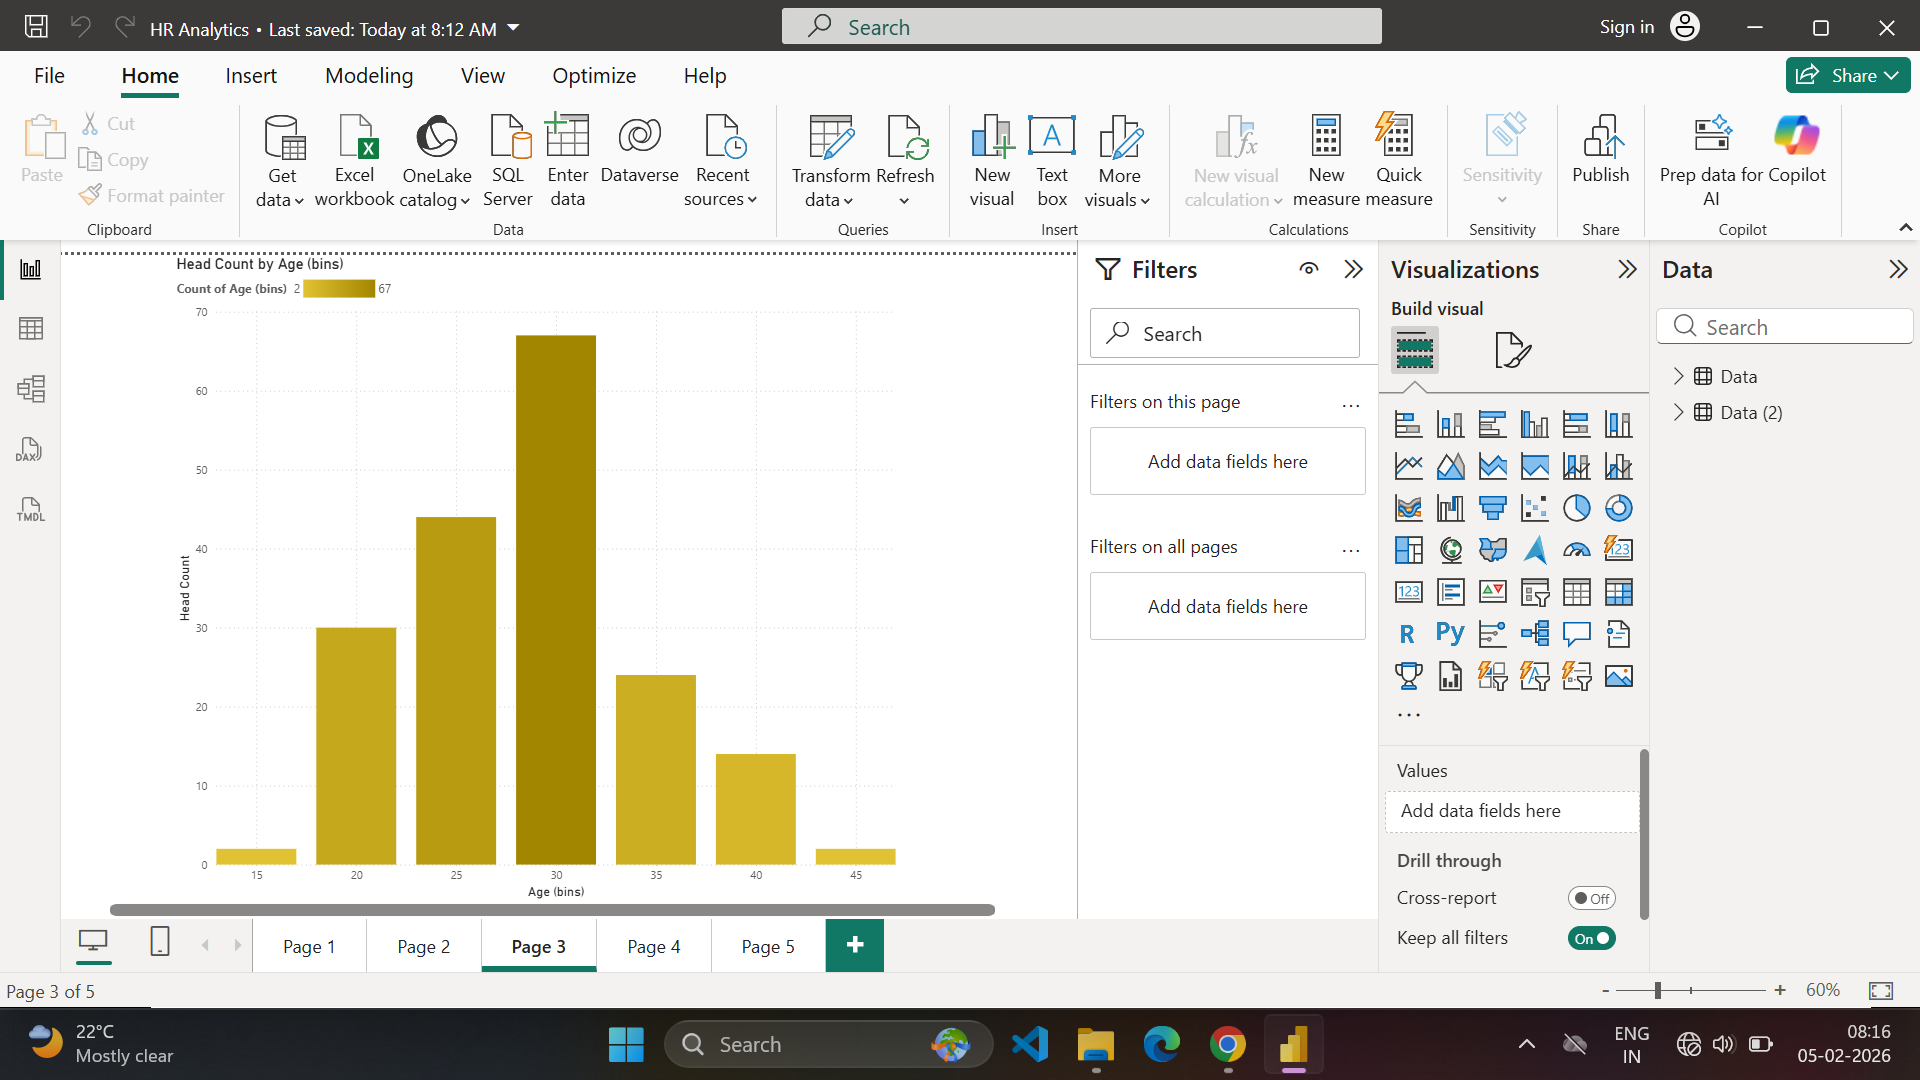

This screenshot's page, from the dashboard's own definition file:
{"tool":"powerbi","page":{"name":"Page 3","canvas":[1280,720],"ordinal":2},"visuals":[{"type":"columnChart","fields":{"Category":["Data (2).Age (bins)"],"Y":["Data (2).Head Count"]},"box":[170.1,0,808.8,720],"z":0}]}

Visuals, with their boxes on the page's 1280x720 design canvas (x1, y1, x2, y2). These are canvas units, not pixel positions in the 1920x1080 screenshot, which may show the page scaled, cropped or inside an application window:
columnChart - Data (2).Age (bins) x Data (2).Head Count: <region>170, 0, 979, 720</region>
